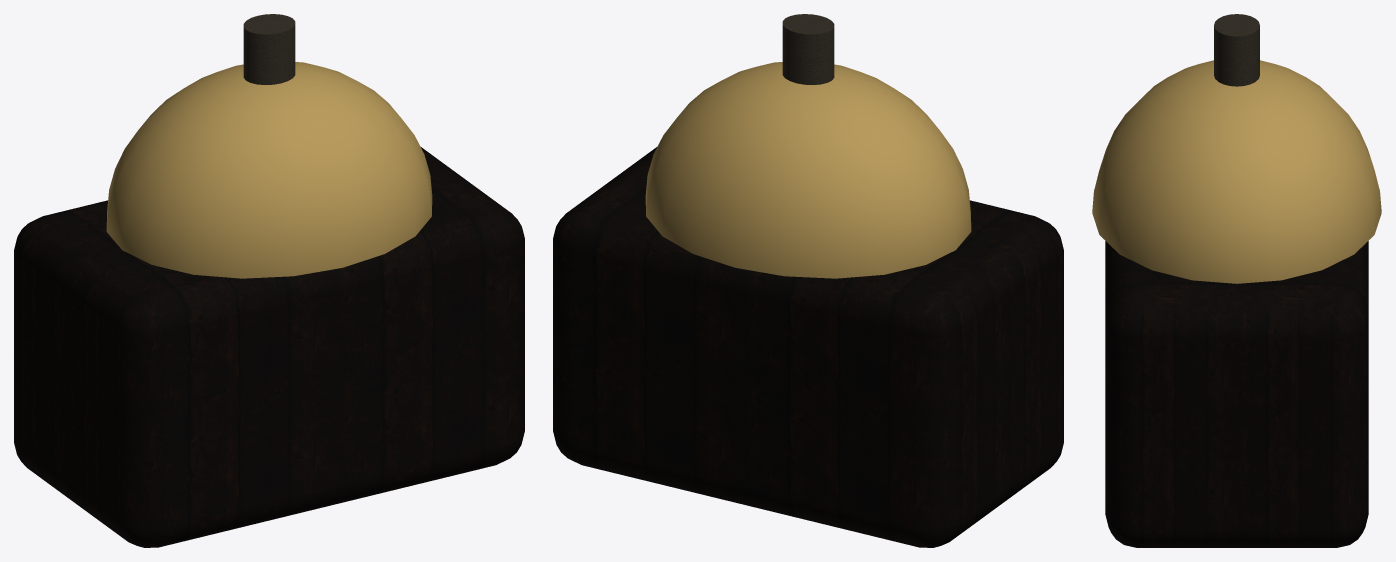
The picture shows the model from 3 angles, left to right: view 1: azimuth 30°, elevation 25°; view 2: azimuth 150°, elevation 25°; view 3: azimuth 270°, elevation 25°; orthographic projection.
Parts seen in each view (by area): view 1: a-bell; view 2: a-bell; view 3: a-bell.
Part boxes in pixels (<box>): a-bell: <box>14,14,524,547</box>; a-bell: <box>553,14,1063,547</box>; a-bell: <box>1092,14,1381,547</box>.
Bounding box in the file's own units: 0.19 × 0.2 × 0.12.
3 materials, 2 textured.
